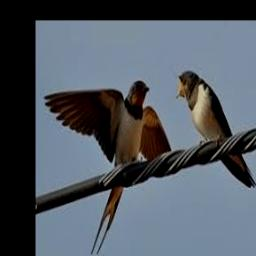Swallow: (44, 80, 173, 254), (176, 72, 256, 188)
